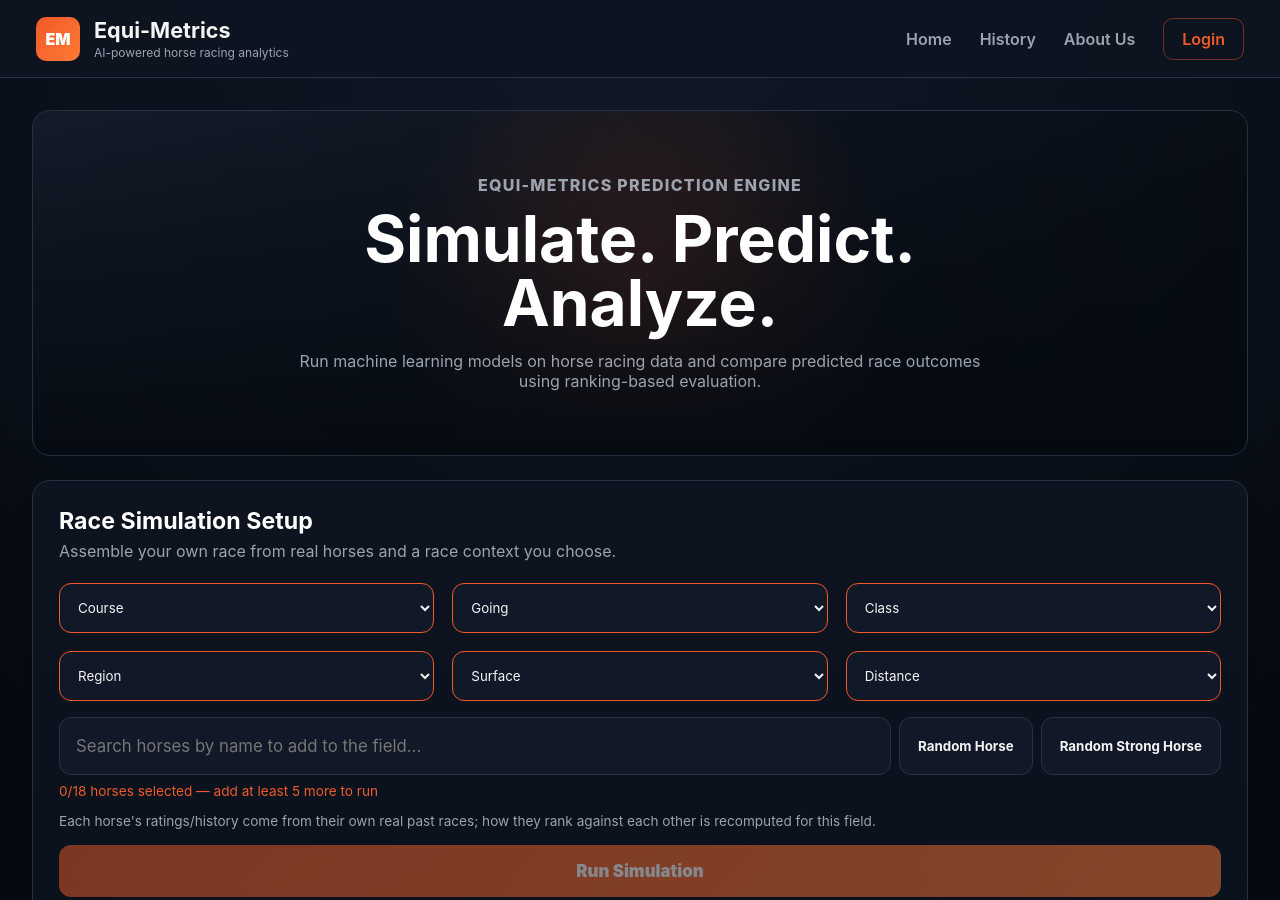
SimulationSetup › selecting a course auto-fills the region field
Select "Ascot" in the 1st dropdown showing "Course" at (247, 608), box [59, 583, 434, 633]
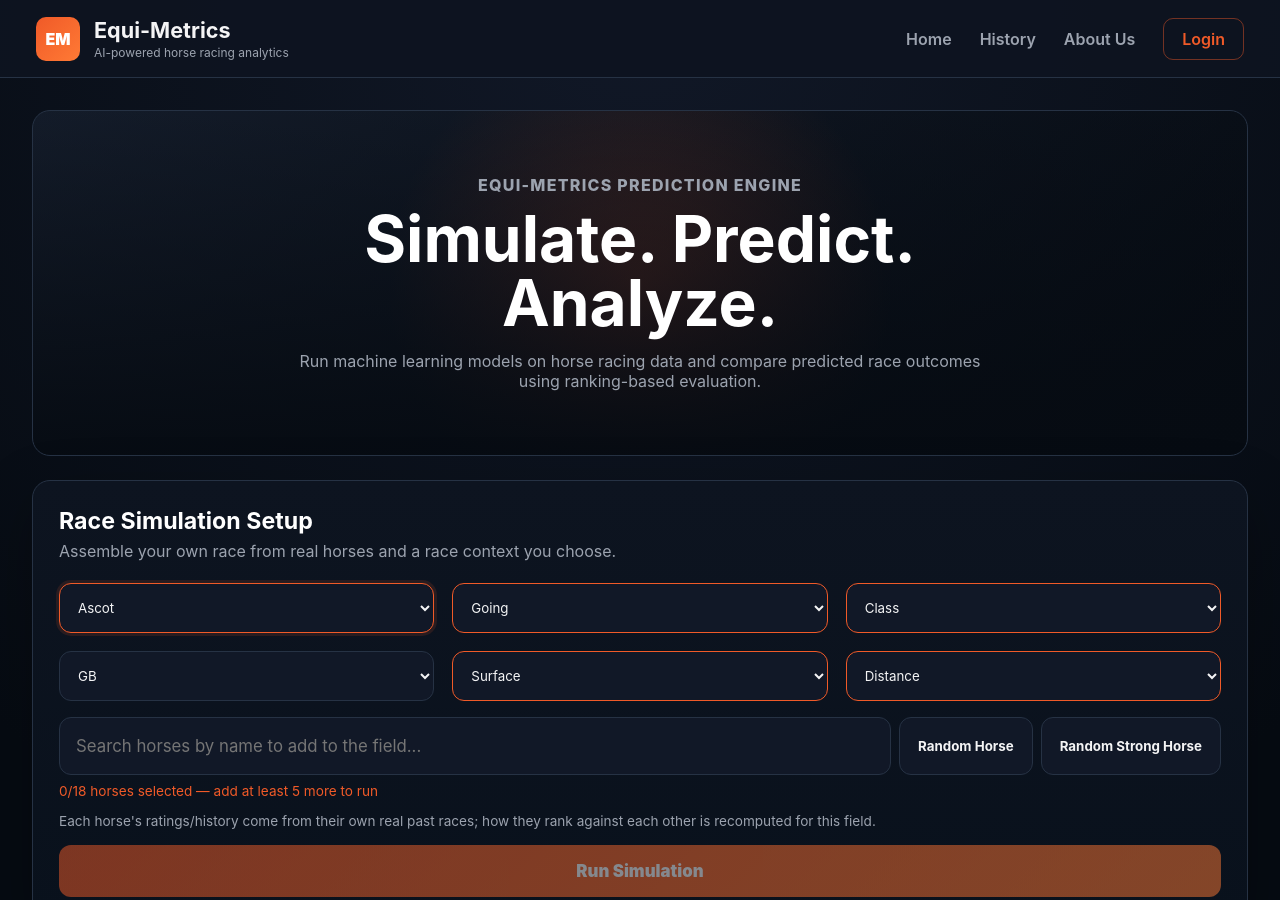
expect the 4th dropdown showing "GB" is shown: met, box [59, 651, 434, 701]
